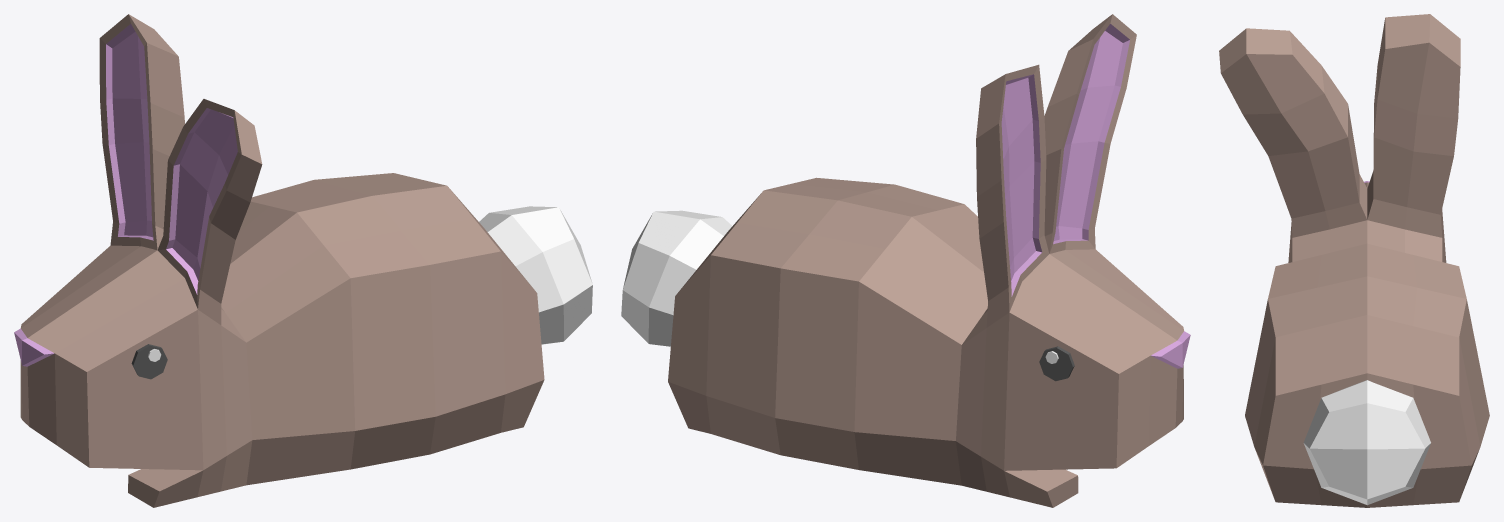
Rendered from Rabbit_01.glb.
The picture shows the model from 3 angles, left to right: view 1: azimuth 30°, elevation 25°; view 2: azimuth 150°, elevation 25°; view 3: azimuth 270°, elevation 25°; orthographic projection. The views are drawn at different scales.
Parts seen in each view (by area): view 1: Cube.025; view 2: Cube.025; view 3: Cube.025.
Part boxes in pixels (x1,y1,x2,y2): Cube.025: [14, 14, 592, 507]; Cube.025: [621, 14, 1190, 507]; Cube.025: [1219, 14, 1489, 507].
Bounding box in the file's own units: 268 × 192 × 130.
